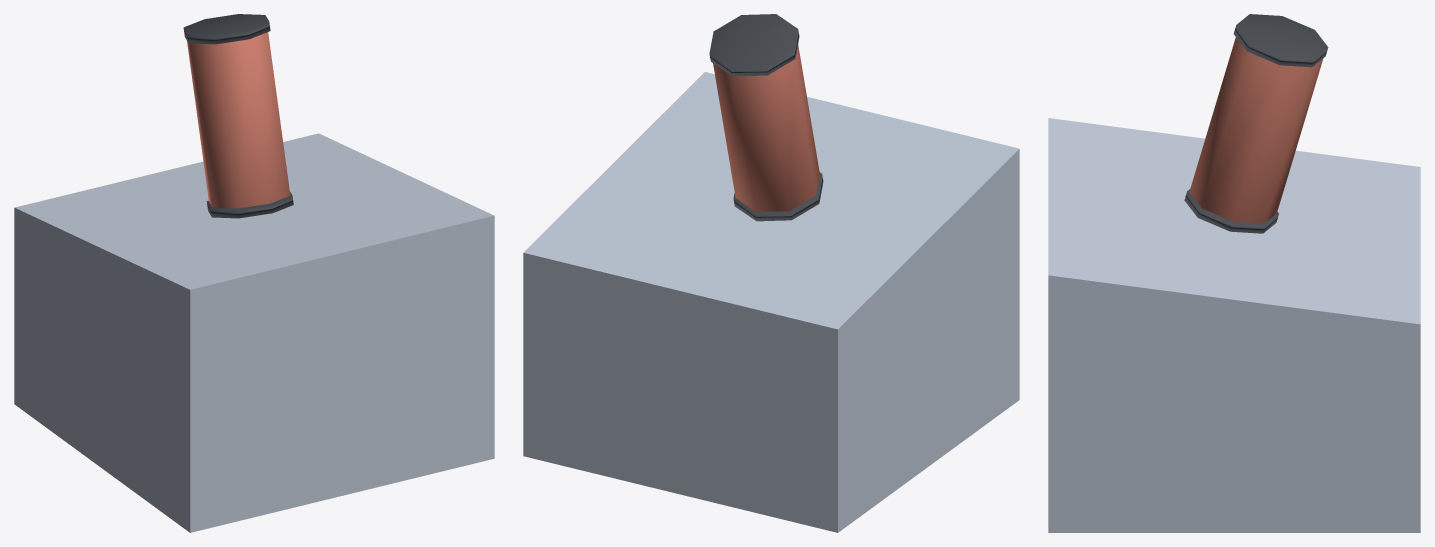
The model's file is BoxGene_Red.fbx.
3 views of the same model, side by side, from view 1: azimuth 30°, elevation 25°; view 2: azimuth 150°, elevation 25°; view 3: azimuth 270°, elevation 25° (orthographic). The views are drawn at different scales.
Parts seen in each view (by area): view 1: pCube4, pCylinder1, pCylinder2, pCylinder3; view 2: pCube4, pCylinder1, pCylinder2, pCylinder3; view 3: pCube4, pCylinder1, pCylinder2, pCylinder3.
Part boxes in pixels (x1=…): pCube4: x1=14, y1=133, x2=494, y2=532; pCylinder1: x1=187, y1=32, x2=290, y2=208; pCylinder2: x1=183, y1=14, x2=270, y2=44; pCylinder3: x1=206, y1=192, x2=293, y2=218; pCube4: x1=523, y1=72, x2=1019, y2=532; pCylinder1: x1=713, y1=44, x2=819, y2=212; pCylinder2: x1=709, y1=14, x2=799, y2=76; pCylinder3: x1=733, y1=172, x2=823, y2=221; pCube4: x1=1048, y1=118, x2=1420, y2=532; pCylinder1: x1=1189, y1=37, x2=1323, y2=223; pCylinder2: x1=1233, y1=14, x2=1328, y2=67; pCylinder3: x1=1184, y1=189, x2=1278, y2=233.
Size of the model in its own units: 4.54 by 5.73 by 4.54.
